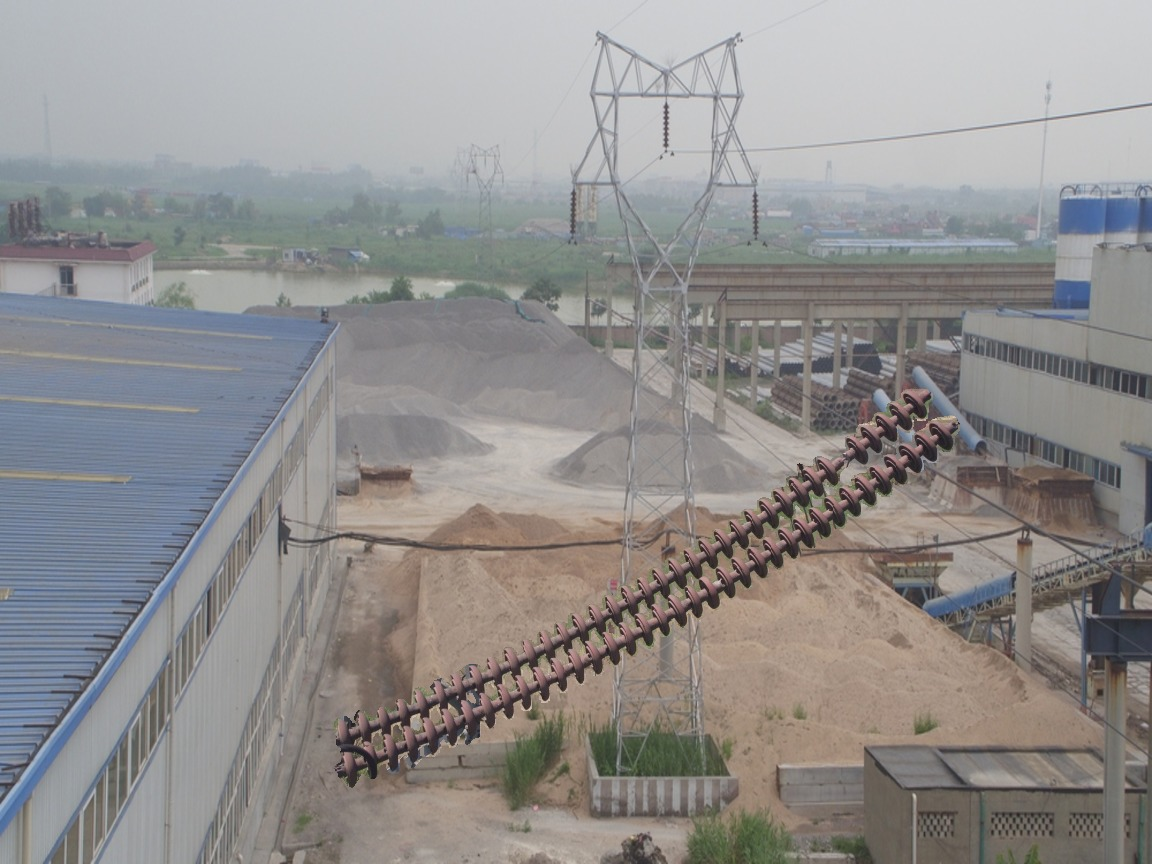defect: (810, 435, 870, 484)
